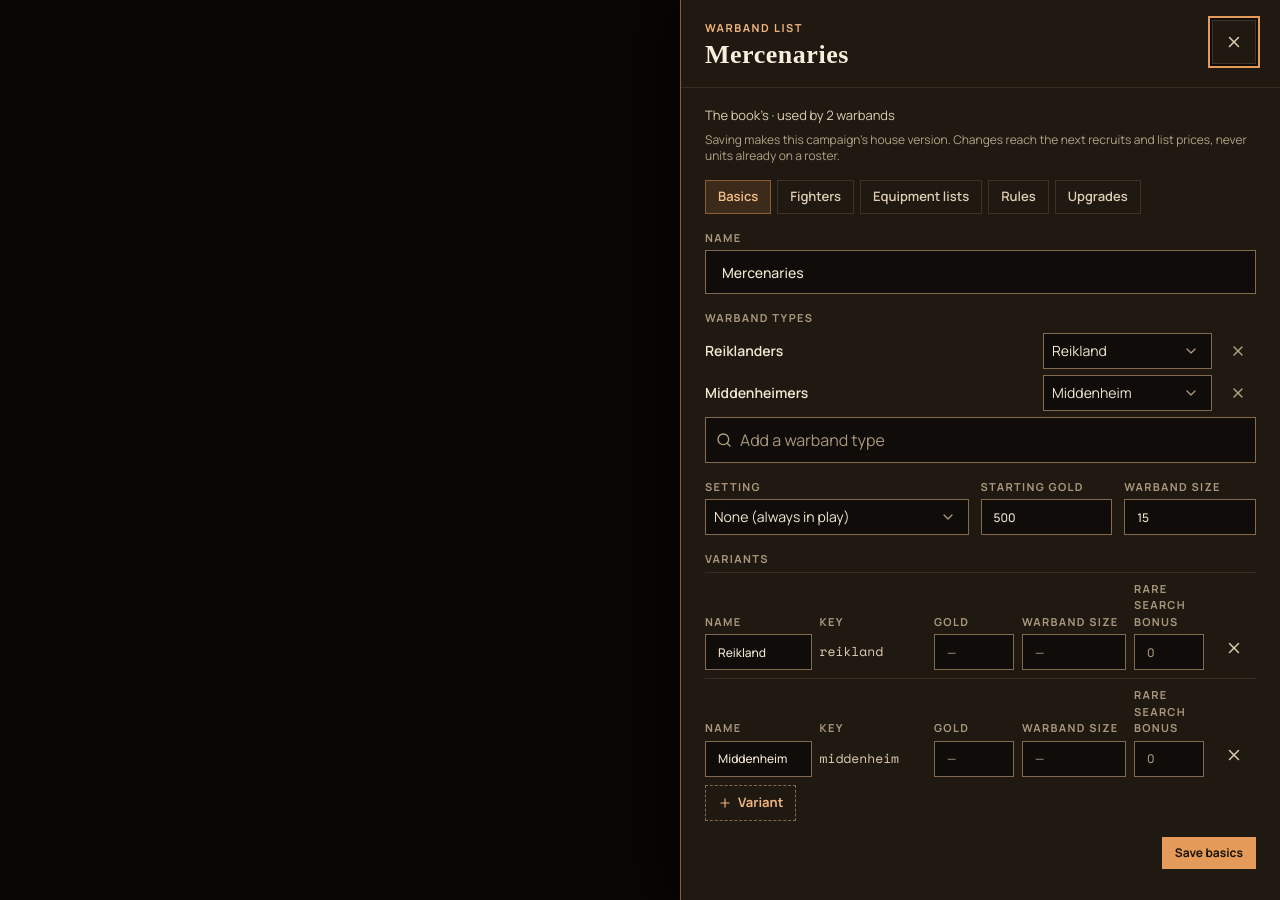
The template editor › offers only heroes as an upgrade's named fighters: upgrades are bought for heroes
The width and height of the screenshot is (1280, 900).
Click the button "Upgrades": (1098, 196) left=1055, top=180, right=1141, bottom=214
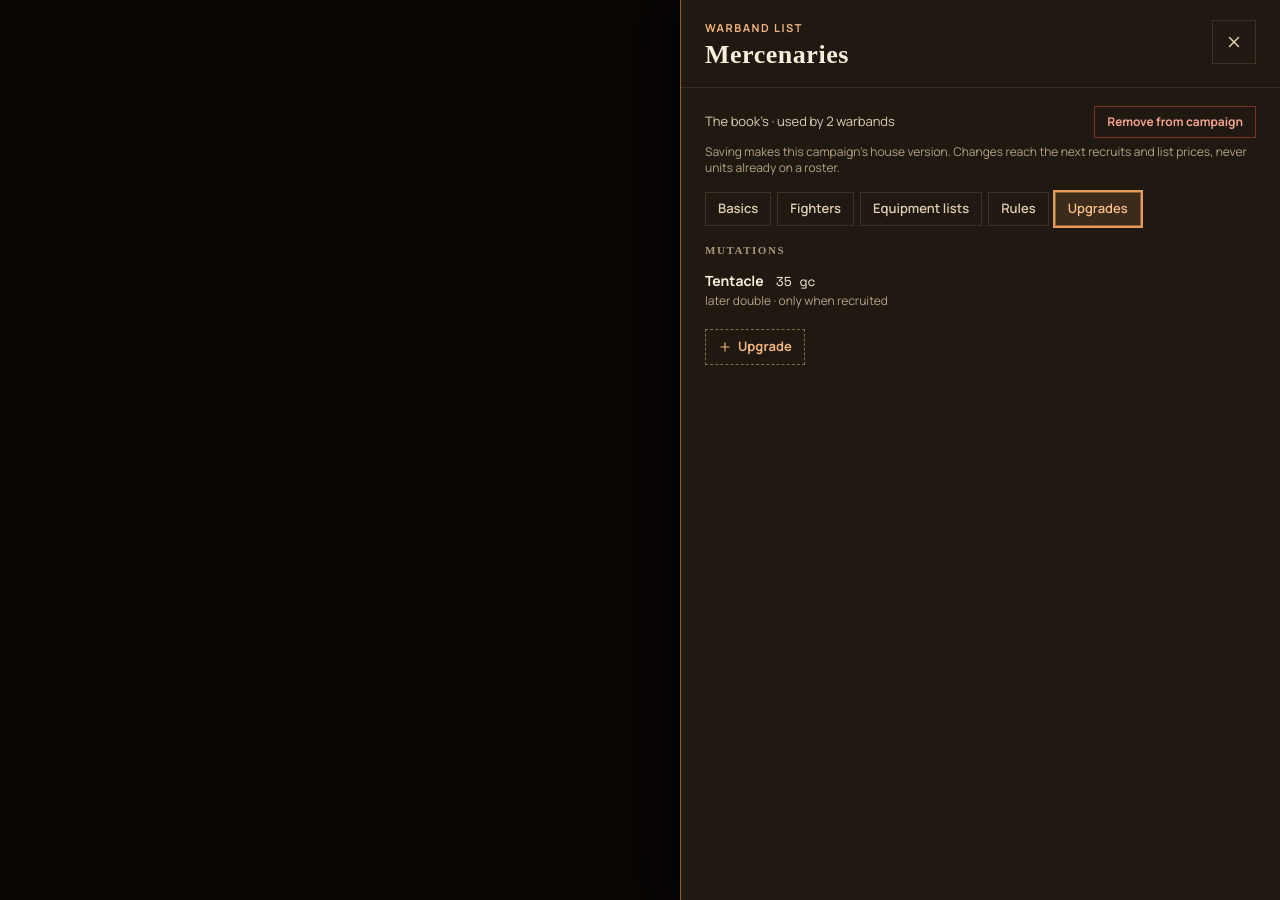
Click the button "Upgrade": (755, 347) left=705, top=329, right=805, bottom=365
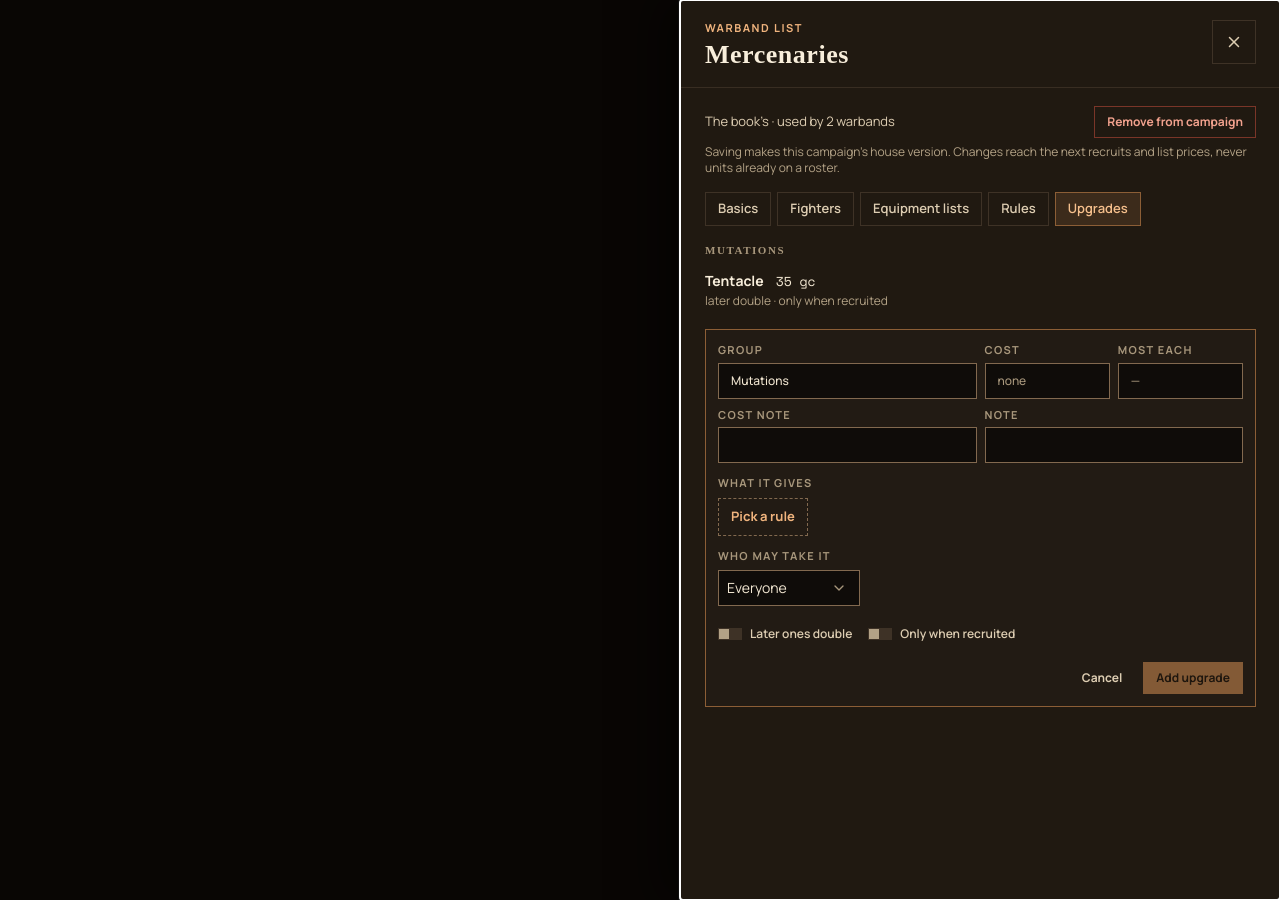
Select "Named fighters" in the dropdown named "Who may take it": (789, 588) left=718, top=570, right=860, bottom=606
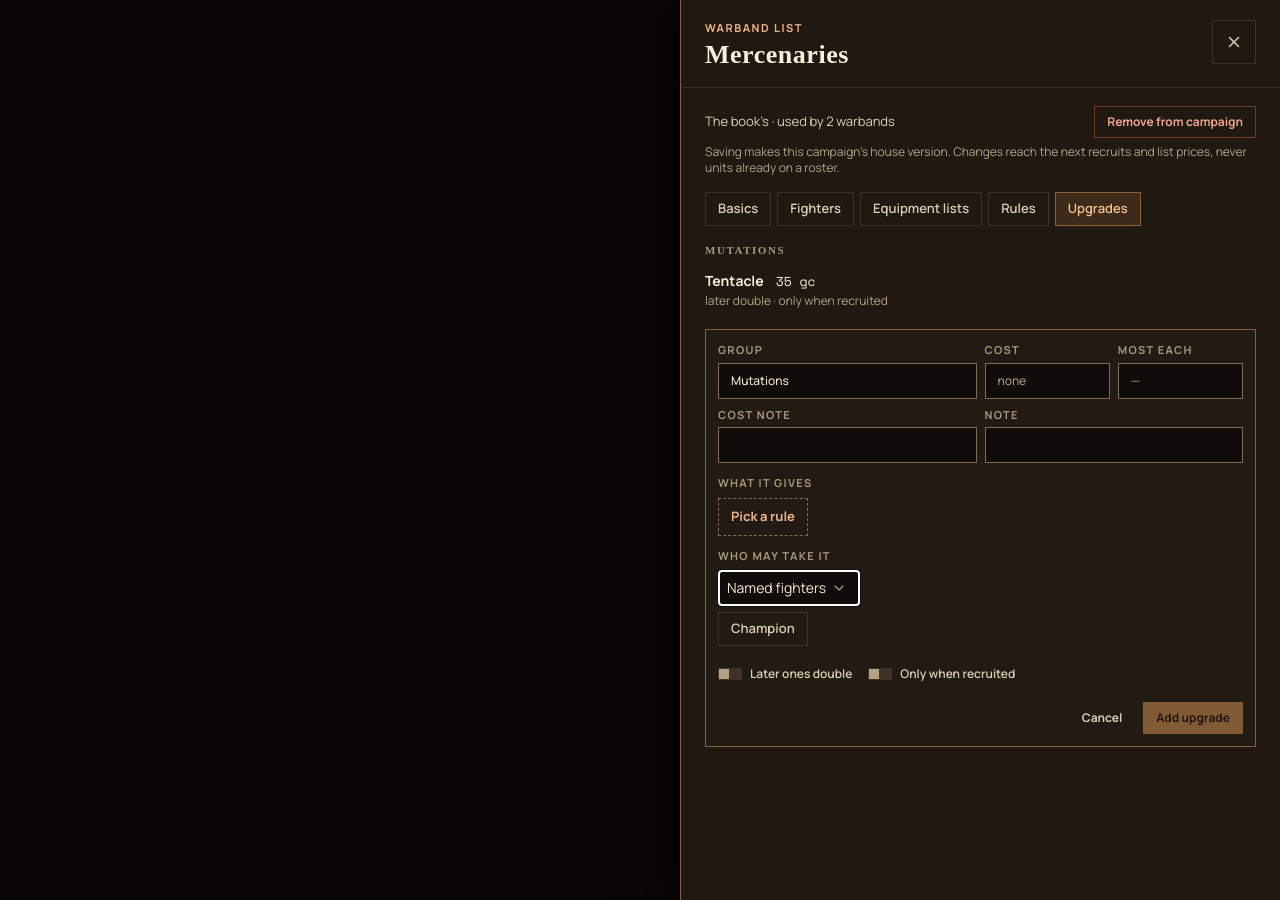
Expected: the button "Champion" is shown, left=718, top=612, right=808, bottom=646
